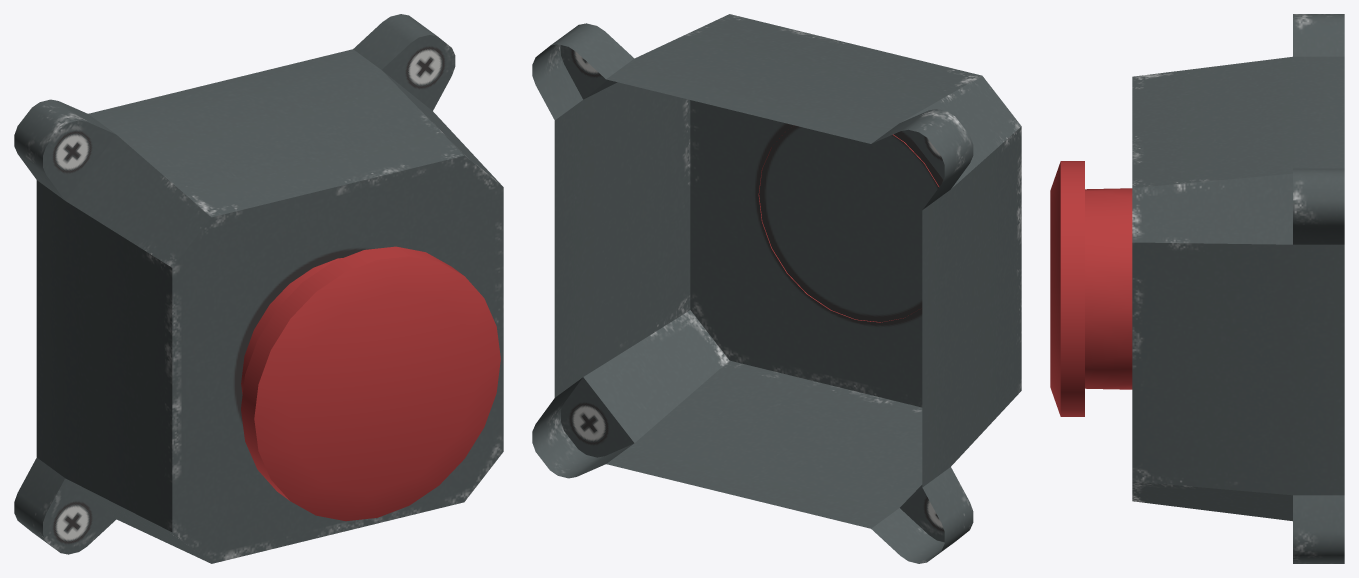
Rendered from Botton_01.FBX.
The picture shows the model from 3 angles, left to right: view 1: azimuth 30°, elevation 25°; view 2: azimuth 150°, elevation 25°; view 3: azimuth 270°, elevation 25°; orthographic projection. The views are drawn at different scales.
Visible parts, largest first — view 1: ButtBody, Button; view 2: ButtBody; view 3: ButtBody, Button.
Boxes of the visible parts, x1,y1,x2,y2 form: ButtBody: (14,14,503,563); Button: (241,246,500,521); ButtBody: (532,14,1021,563); ButtBody: (1132,14,1344,563); Button: (1050,161,1132,416).
Size of the model in its own units: 0.1868 by 0.1868 by 0.1276.
